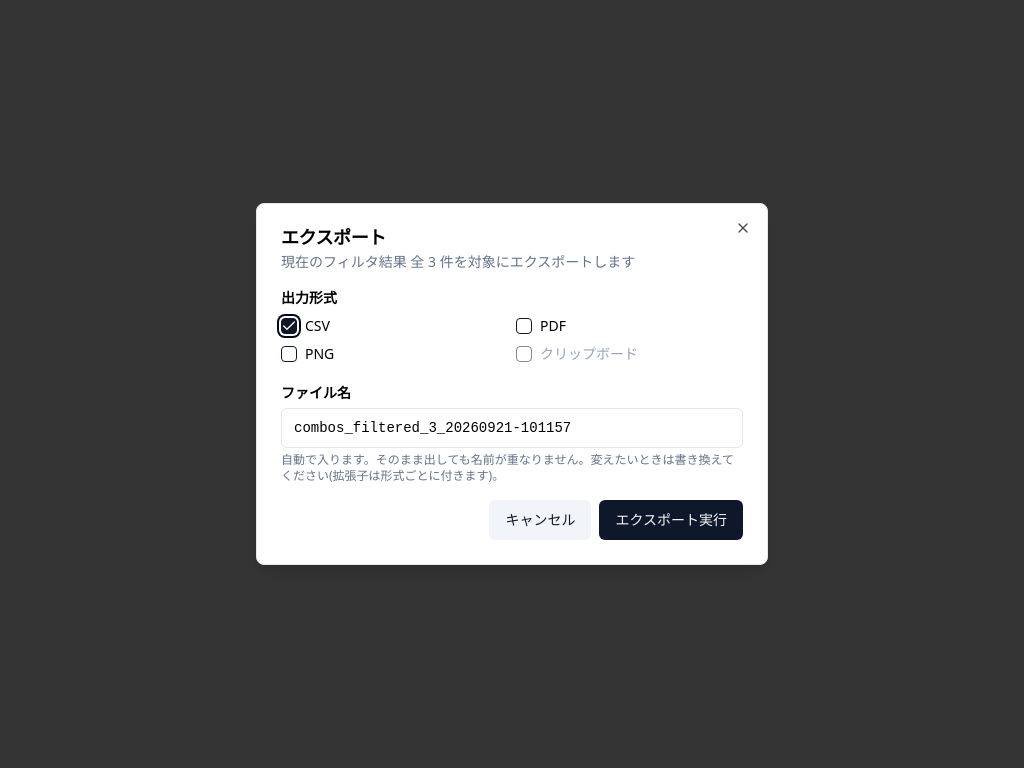
Test: ExportDialog › 行数上限の切り捨て › ★総数が出せる件数を超えるとき、実行しても即座に出力せず確認を出す
Click the button "エクスポート実行": {"x": 671, "y": 520} top-left (599, 500), bottom-right (743, 540)
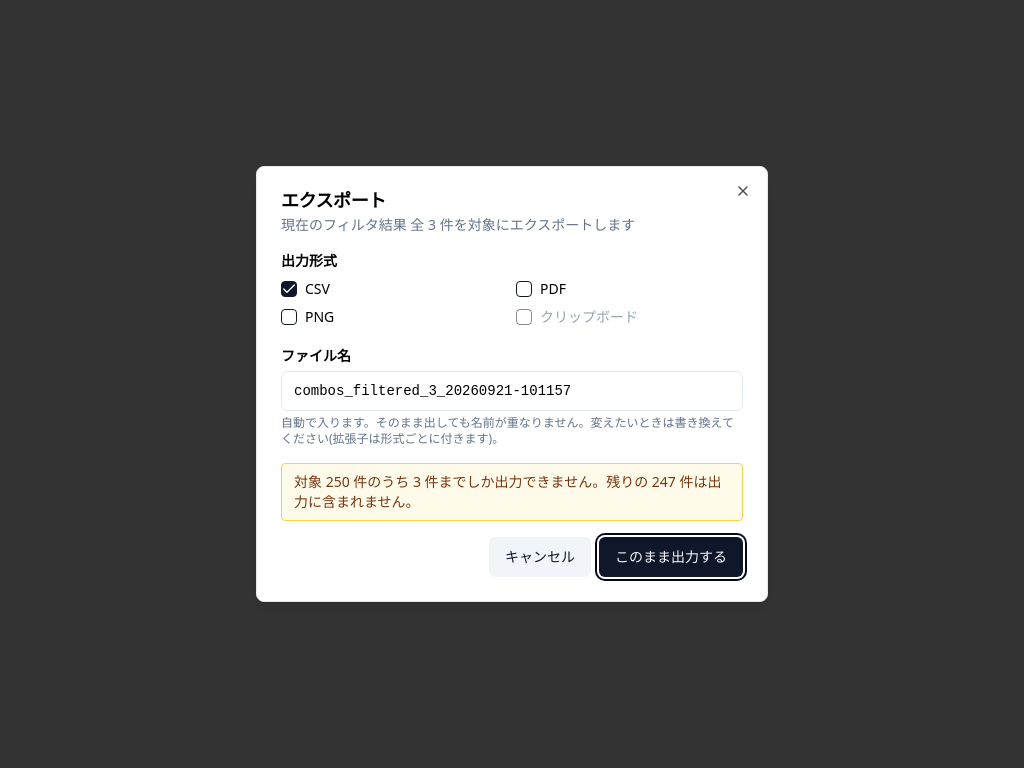
Expected: the message with test id "export-truncation-confirm" shows "250", top-left (294, 472), bottom-right (722, 511)
Expected: the message with test id "export-truncation-confirm" shows "3", top-left (294, 472), bottom-right (722, 511)
Expected: the message with test id "export-truncation-confirm" shows "247", top-left (294, 472), bottom-right (722, 511)
